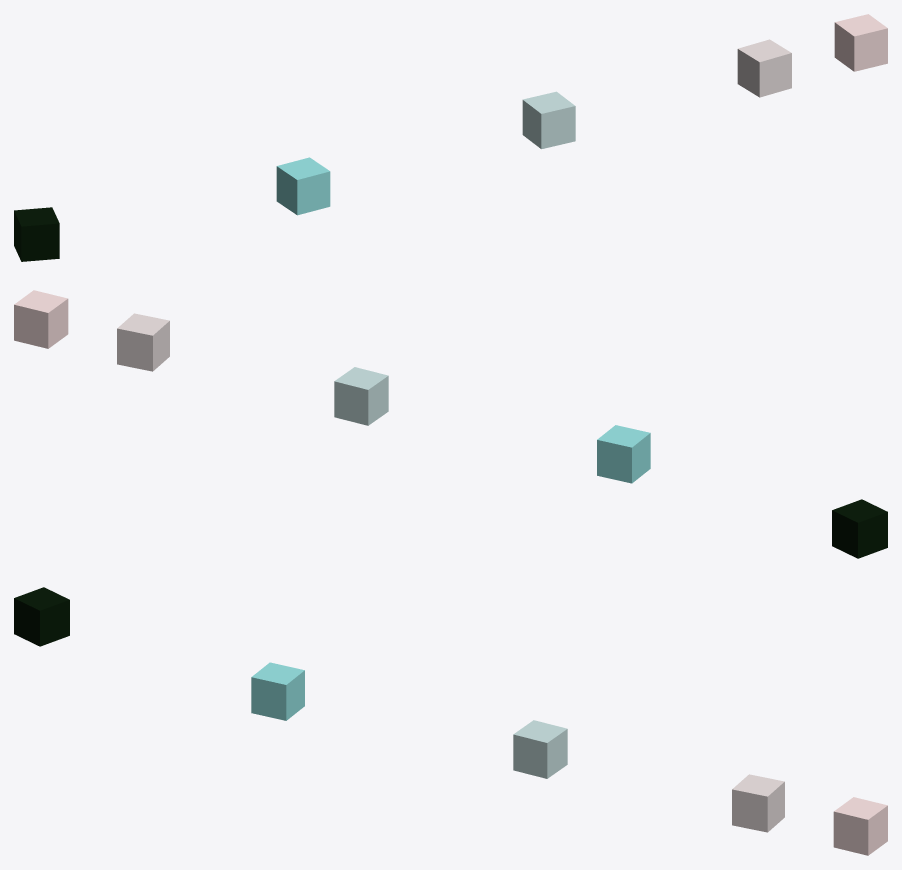
The model's file is spline.glb.
The picture shows the model from 3 angles, top to bottom: view 1: azimuth 30°, elevation 25°; view 2: azimuth 150°, elevation 25°; view 3: azimuth 330°, elevation 25°; orthographic projection.
Visible parts, largest first — view 1: anchors-1, anchors-3, anchors-4, anchors-2, Cube, anchors-0; view 2: anchors-2, anchors-4, anchors-1, anchors-3, anchors-0, Cube; view 3: Cube, anchors-2, anchors-4, anchors-1, anchors-3, anchors-0.
Part boxes in pixels (bbox=[...]): anchors-1: bbox=[276, 157, 330, 215]; anchors-3: bbox=[737, 39, 791, 97]; anchors-4: bbox=[834, 14, 887, 71]; anchors-2: bbox=[522, 91, 575, 149]; Cube: bbox=[14, 207, 59, 261]; anchors-0: bbox=[14, 207, 59, 260]; anchors-2: bbox=[334, 367, 388, 425]; anchors-4: bbox=[14, 290, 68, 348]; anchors-1: bbox=[597, 425, 650, 483]; anchors-3: bbox=[117, 313, 169, 371]; anchors-0: bbox=[832, 499, 887, 558]; Cube: bbox=[832, 500, 887, 558]; Cube: bbox=[14, 587, 69, 646]; anchors-2: bbox=[513, 720, 567, 778]; anchors-4: bbox=[833, 797, 887, 855]; anchors-1: bbox=[251, 662, 304, 720]; anchors-3: bbox=[732, 774, 784, 832]; anchors-0: bbox=[15, 587, 69, 642].
Size of the model in its own units: 50.53 by 2 by 4.07.
